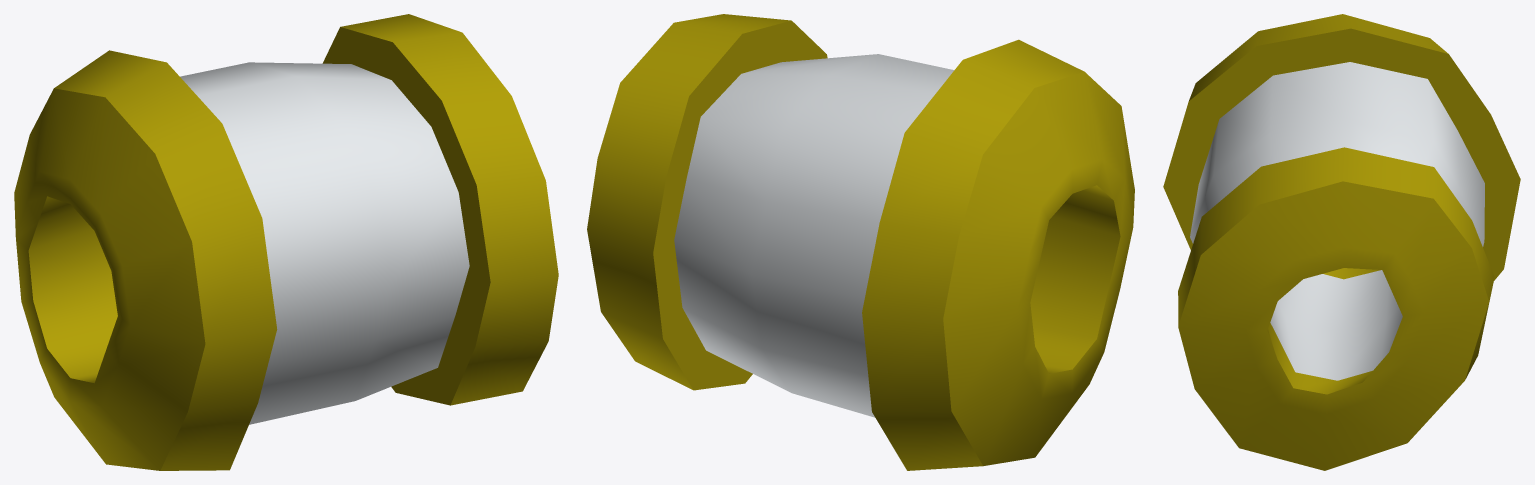
The model's file is armor_rightwrist.fbx.
3 renders of one model, left to right at view 1: azimuth 30°, elevation 25°; view 2: azimuth 150°, elevation 25°; view 3: azimuth 270°, elevation 25°, orthographic. The views are drawn at different scales.
Parts seen in each view (by area): view 1: polySurface1; view 2: polySurface1; view 3: polySurface1.
Part boxes in pixels (<box>): polySurface1: <box>14,14,558,470</box>; polySurface1: <box>587,14,1134,470</box>; polySurface1: <box>1163,14,1520,470</box>.
Size of the model in its own units: 64.04 by 59.48 by 56.99.
